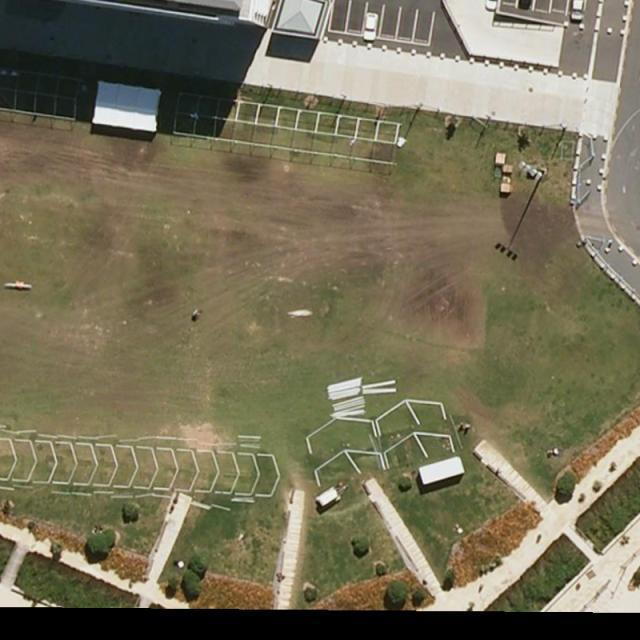vehicle: (362, 13, 379, 42), (568, 1, 586, 19), (484, 1, 498, 11)
